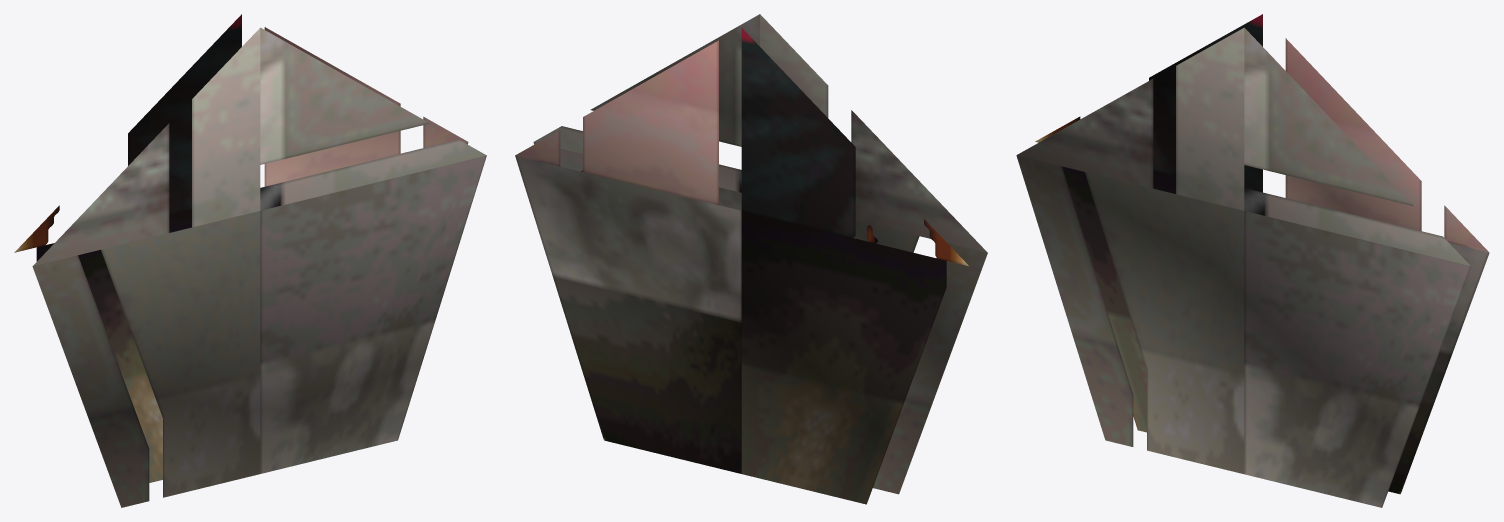
3 renders of one model, left to right at view 1: azimuth 30°, elevation 25°; view 2: azimuth 150°, elevation 25°; view 3: azimuth 330°, elevation 25°, orthographic.
Parts seen in each view (by area): view 1: T1L4M007_21; view 2: T1L4M007_21; view 3: T1L4M007_21.
Part boxes in pixels (x1,y1,x2,y2): T1L4M007_21: (14, 14, 486, 507); T1L4M007_21: (515, 14, 987, 504); T1L4M007_21: (1016, 14, 1489, 507).
Bounding box in the file's own units: 0.3193 × 0.2998 × 0.0225.
